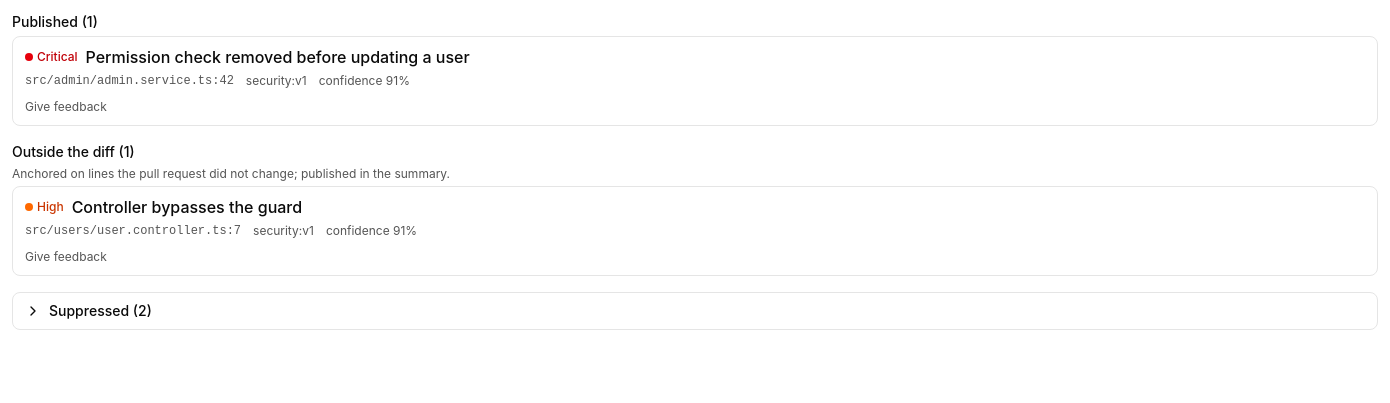
feedback › finding cards carry the feedback menu
What coordinates should you click on to do the following:
click the button "Give feedback" below "Critical"
I would click on:
 (66, 107)
Its box is x1=25 y1=99 x2=107 y2=115.
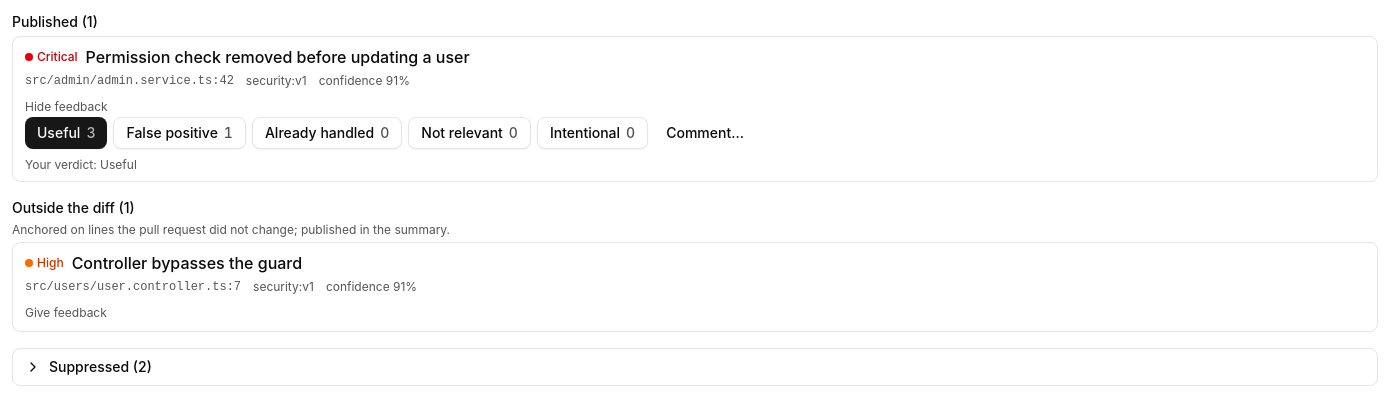
Now the button named "Useful3" is shown, box x1=25 y1=117 x2=108 y2=149
